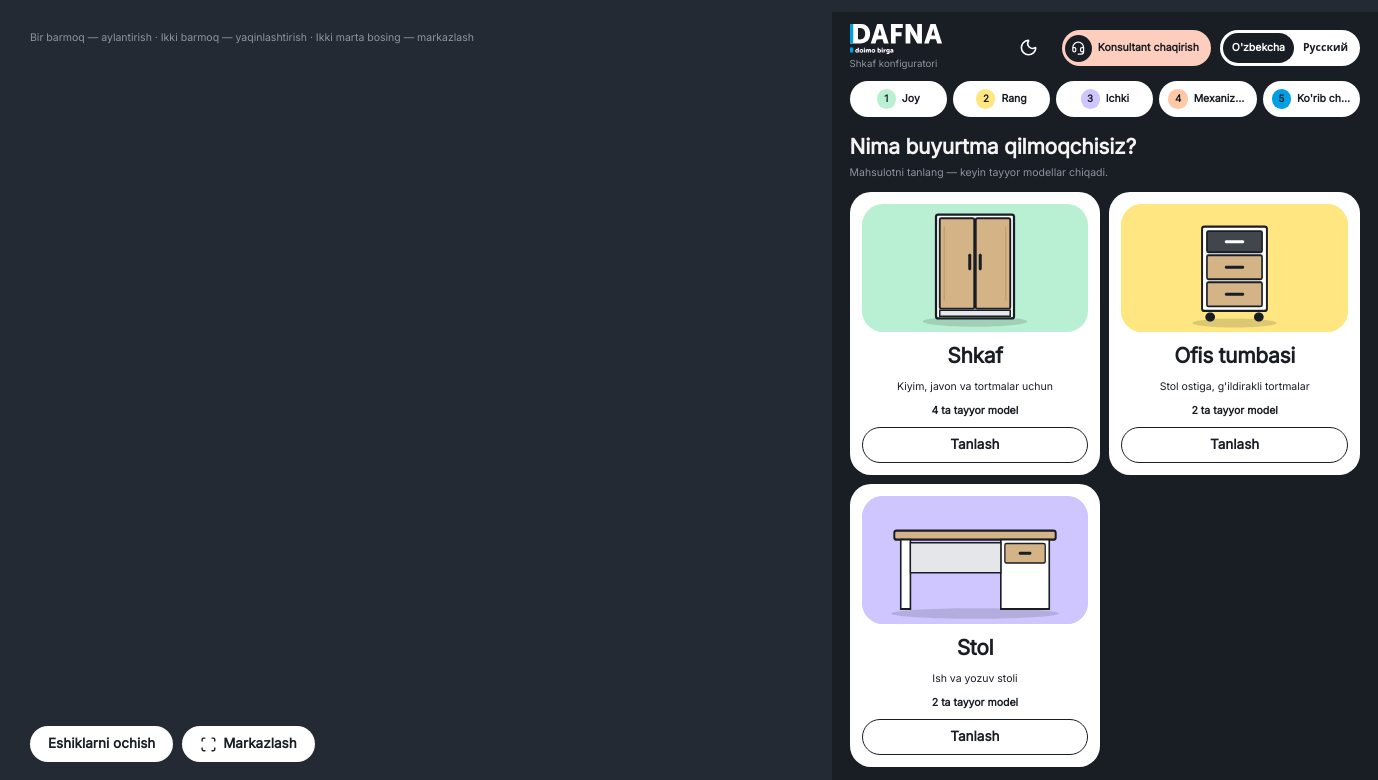
Test case: D-8 start screen: Shkaf / Ofis tumbasi / Stol › three products; each shows its own ready-made models
The width and height of the screenshot is (1378, 780).
Click the button with aria-label "Shkaf: Tanlash": (975,334) x1=850 y1=192 x2=1100 y2=475
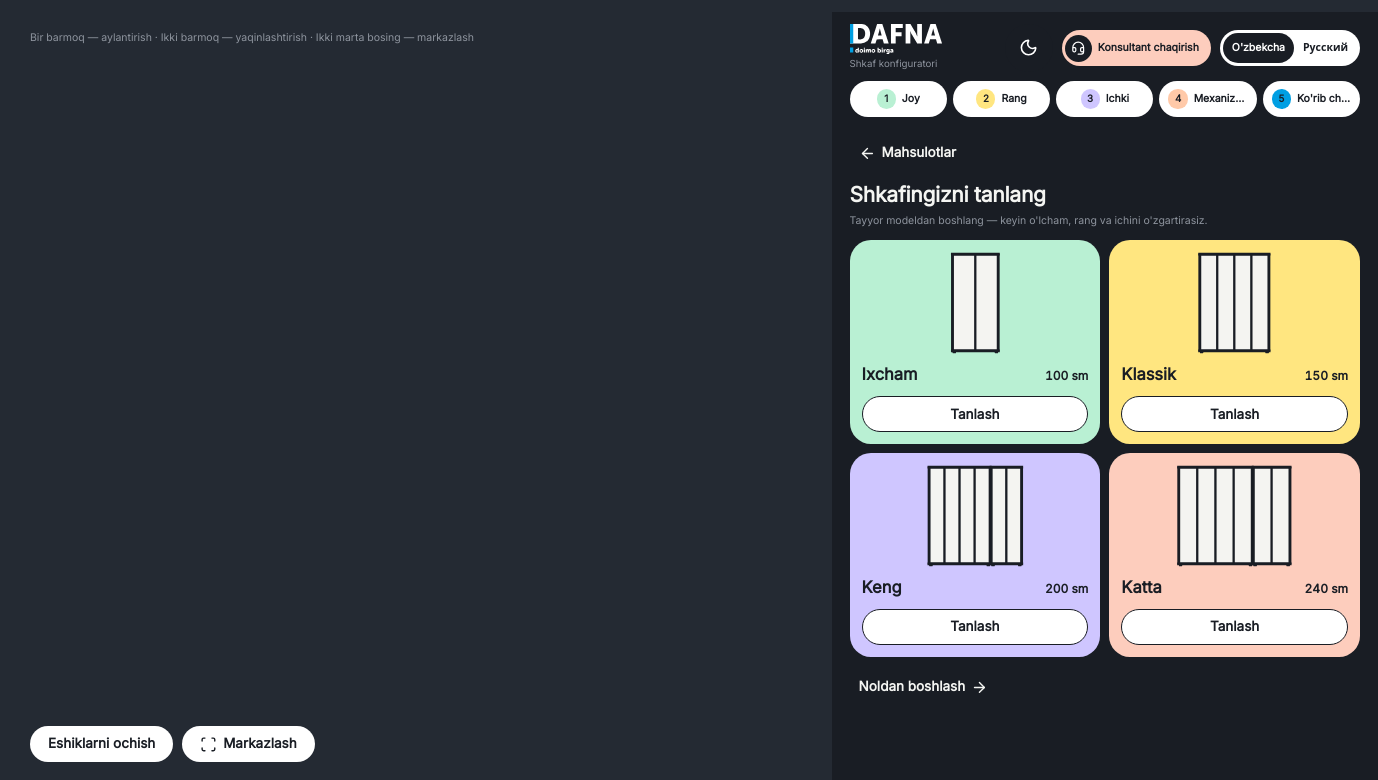
Now the number of elements with class "model-card" is 4, box x1=850 y1=240 x2=1100 y2=444; x1=1109 y1=240 x2=1360 y2=444; x1=850 y1=453 x2=1100 y2=657; x1=1109 y1=453 x2=1360 y2=657
Click the button with test id "start-back": (907,153) x1=850 y1=135 x2=965 y2=171
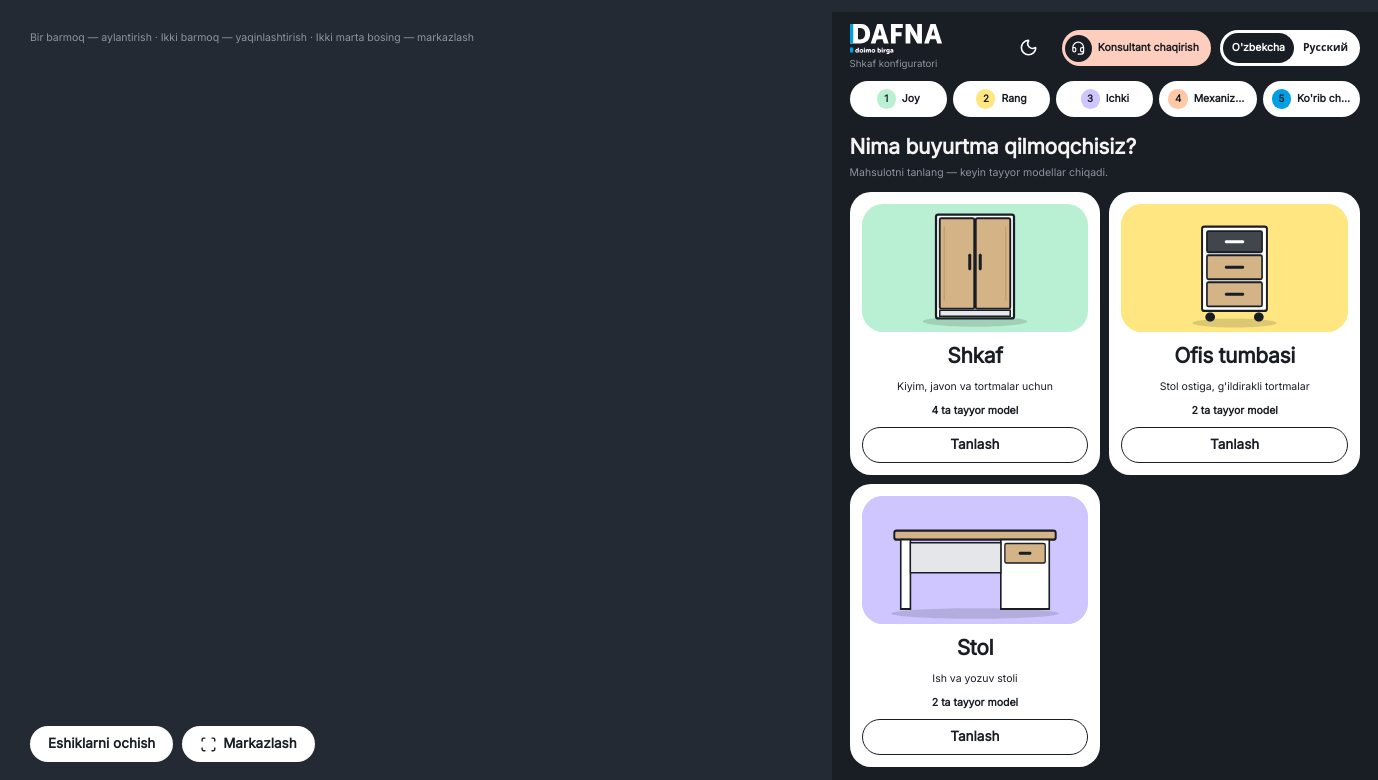
Click the button with aria-label "Ofis tumbasi: Tanlash": (1235,334) x1=1109 y1=192 x2=1360 y2=475
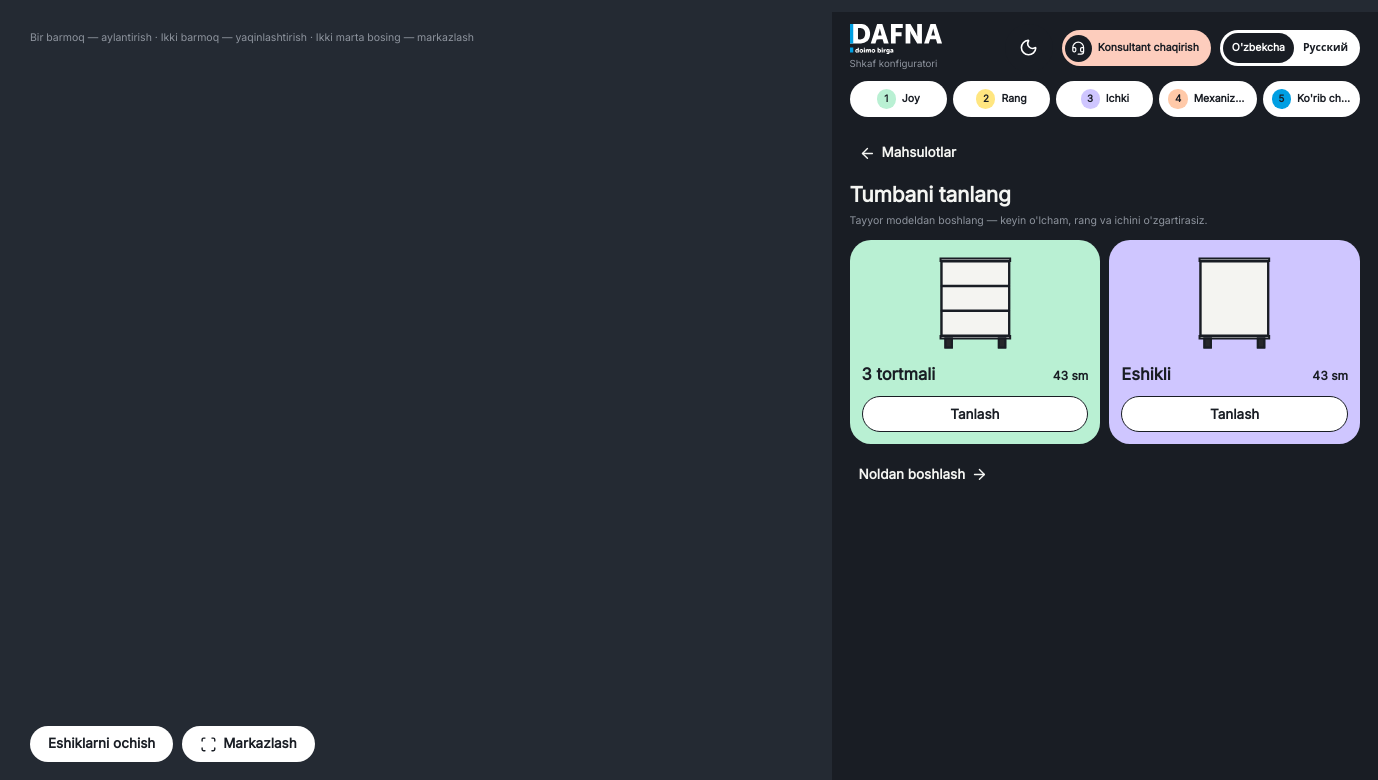
Now the heading "Tumbani tanlang" is shown, box x1=850 y1=182 x2=1011 y2=207
Now the number of elements with class "model-card" is 2, box x1=850 y1=240 x2=1100 y2=444; x1=1109 y1=240 x2=1360 y2=444
Click the button with test id "start-back": (907,153) x1=850 y1=135 x2=965 y2=171
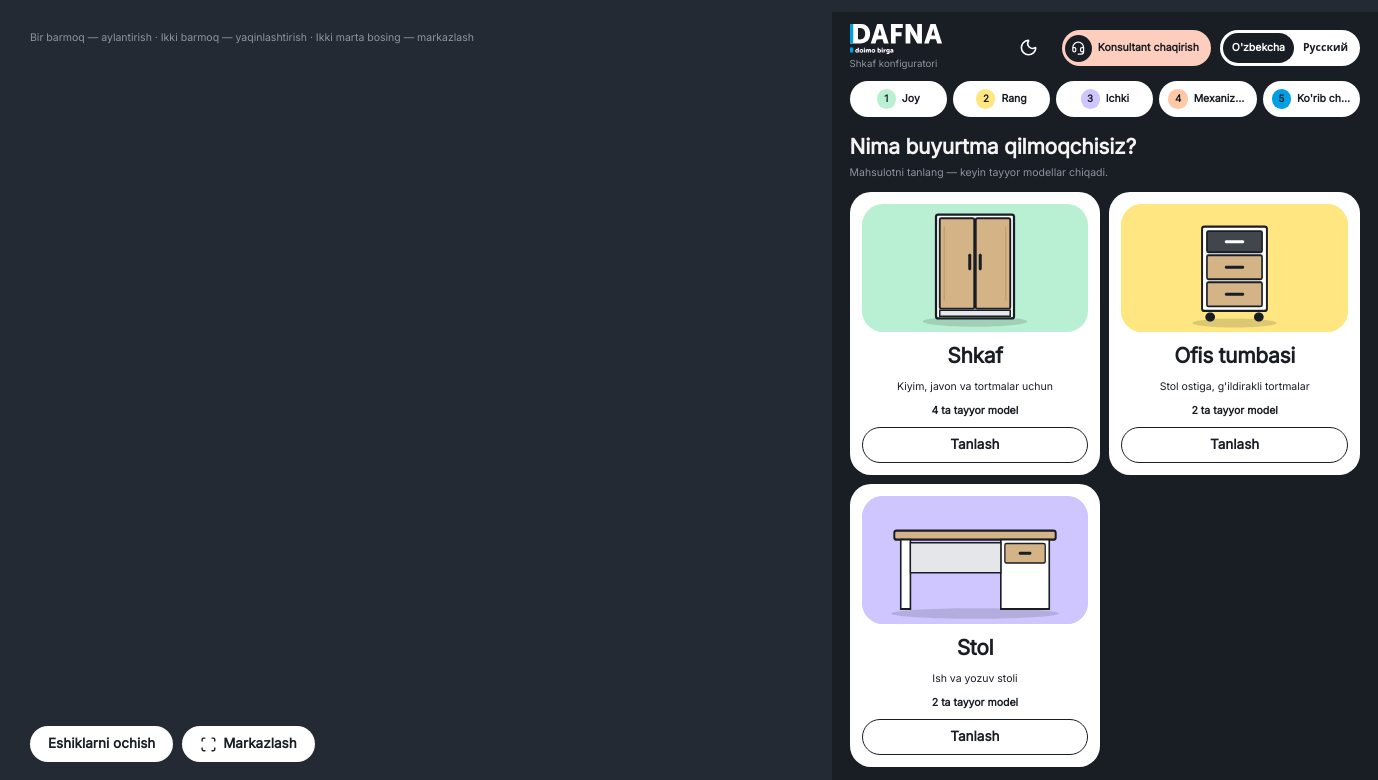
Click the button "Stol Ish va yozuv stoli 2 ta tayyor model Tanlash": (975,626) x1=850 y1=484 x2=1100 y2=767
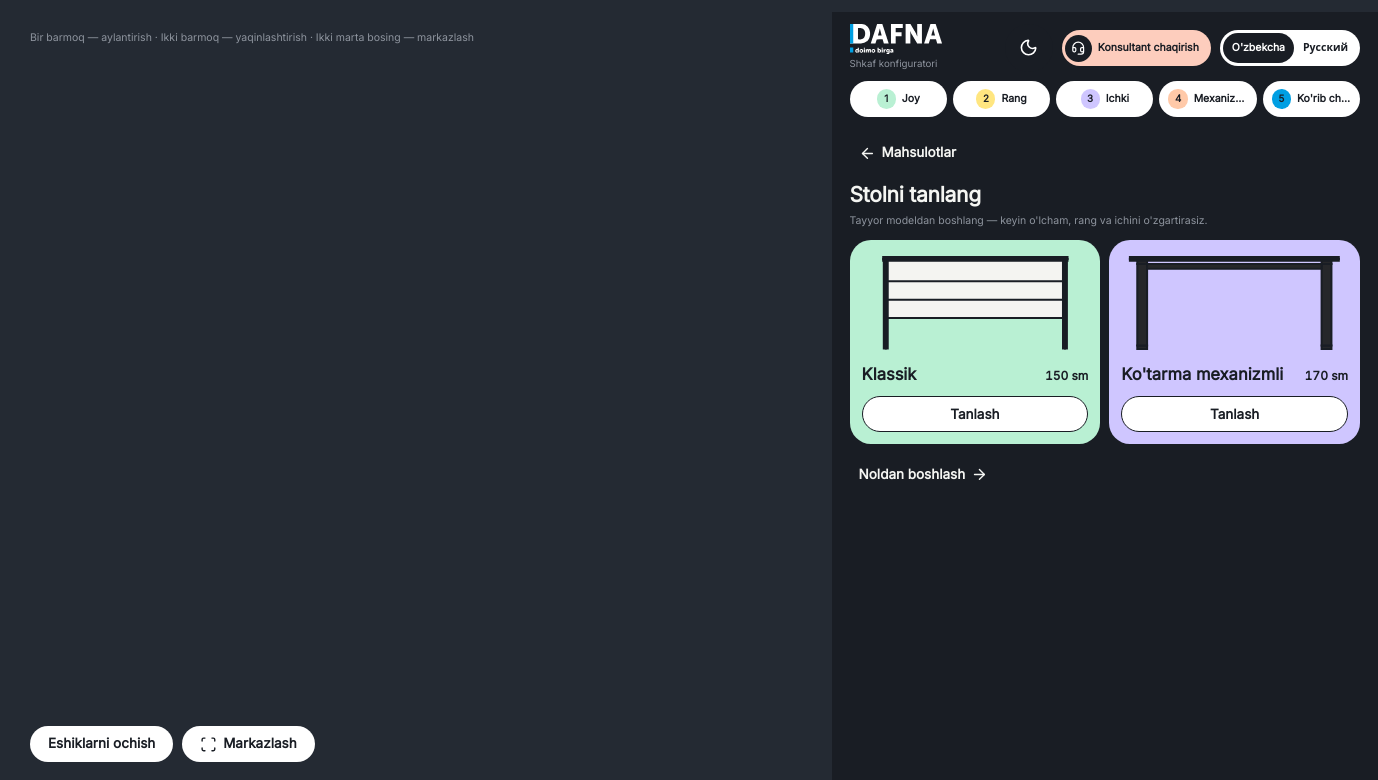
Now the number of elements with class "model-card" is 2, box x1=850 y1=240 x2=1100 y2=444; x1=1109 y1=240 x2=1360 y2=444
